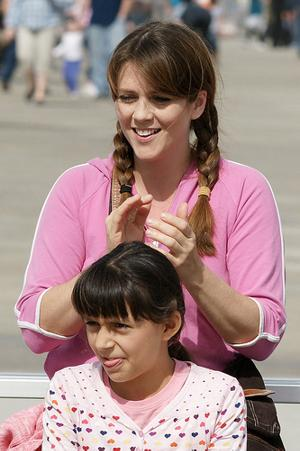person: (16, 17, 287, 451)
